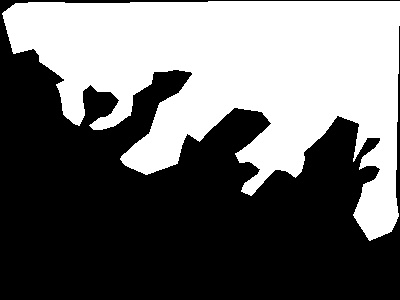Fire: (239, 35, 370, 198), (122, 71, 230, 170), (64, 1, 149, 122), (358, 72, 400, 236)
